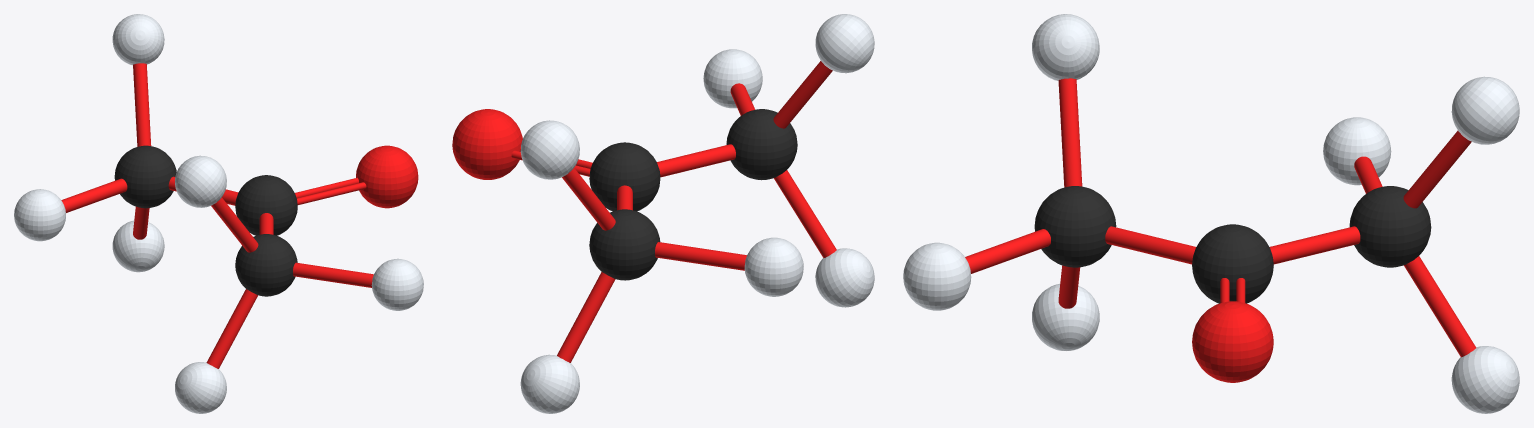
The model's file is acetone.fbx.
3 views of the same model, side by side, from view 1: azimuth 30°, elevation 25°; view 2: azimuth 150°, elevation 25°; view 3: azimuth 270°, elevation 25° (orthographic). The views are drawn at different scales.
Visible parts, largest first — view 1: acetone; view 2: acetone; view 3: acetone.
Boxes of the visible parts, box(x1,y1,x2,y2) form: acetone: box(14, 14, 423, 413); acetone: box(452, 14, 874, 413); acetone: box(903, 14, 1519, 413).
Bounding box in the file's own units: 232 × 161 × 271.
